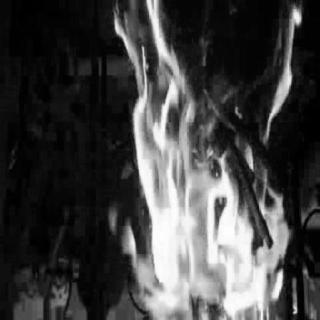Fire: (110, 8, 312, 318)
